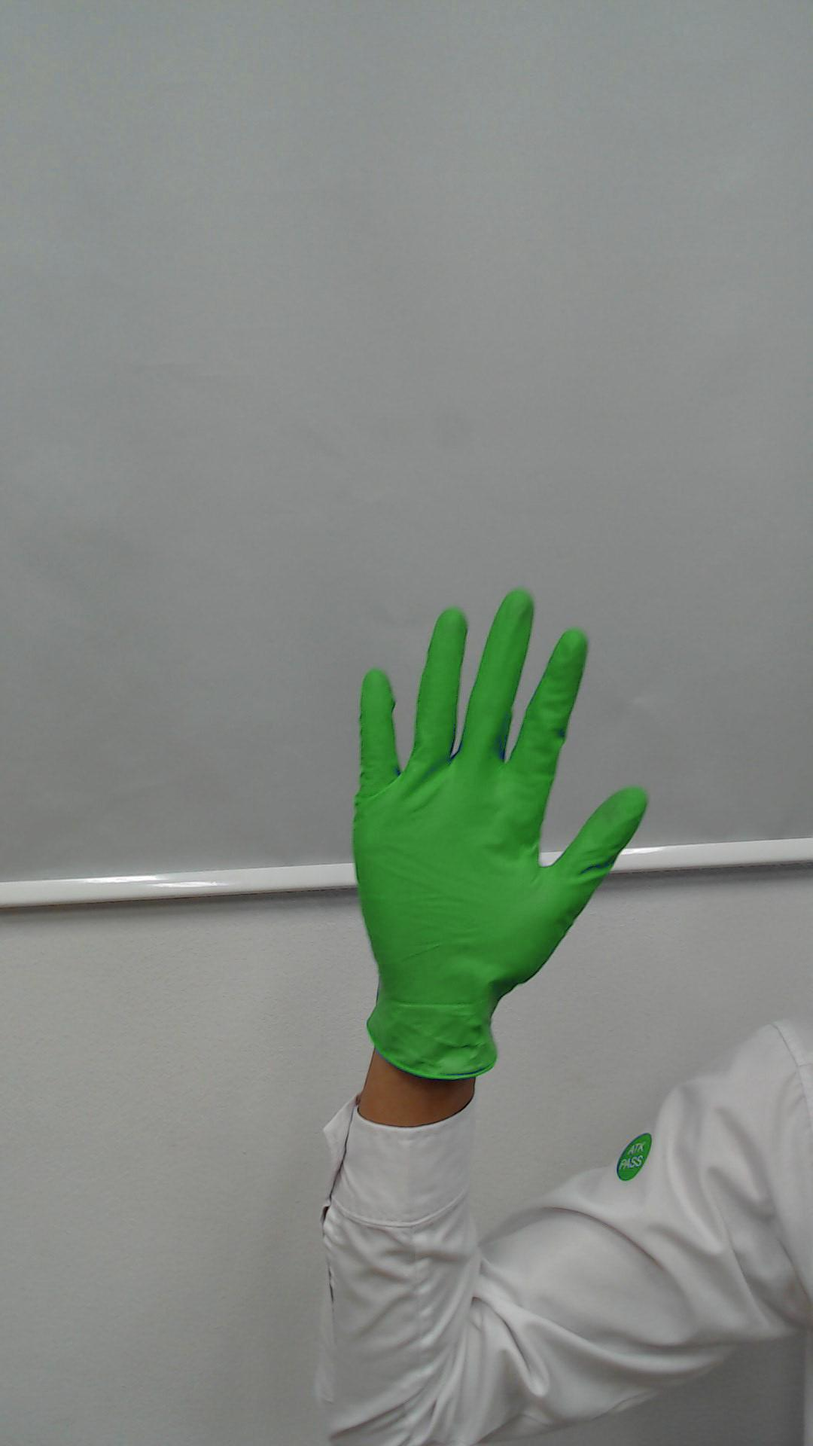gloves: (348, 576, 663, 990)
